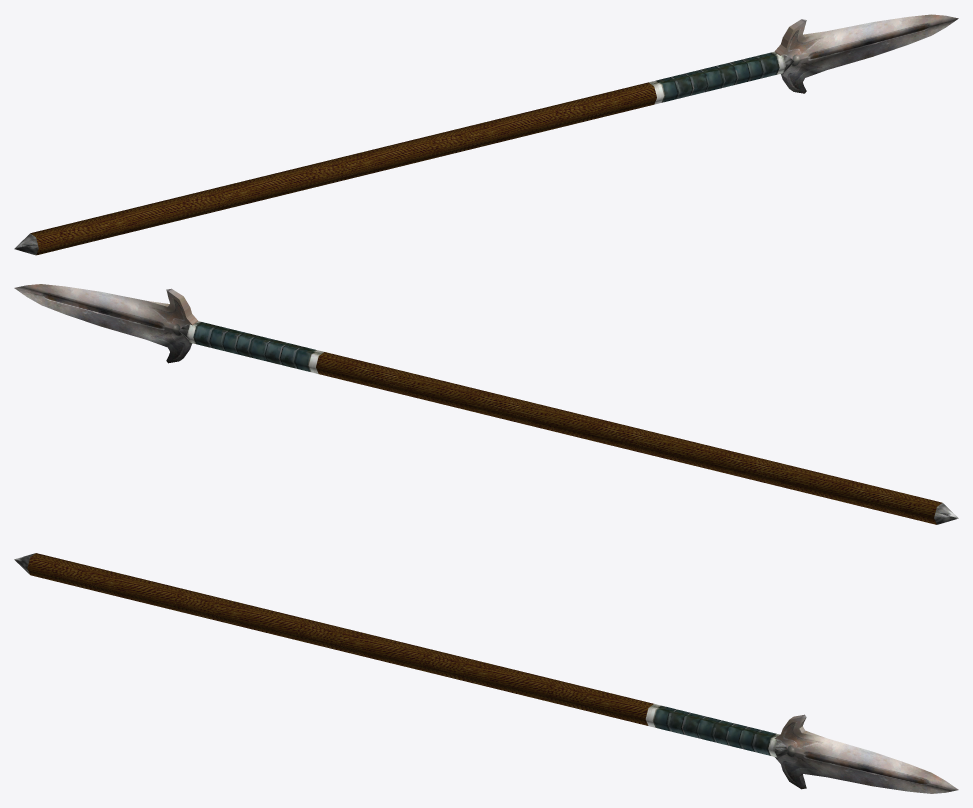
3 views of the same model, one above another, from view 1: azimuth 30°, elevation 25°; view 2: azimuth 150°, elevation 25°; view 3: azimuth 330°, elevation 25° (orthographic).
Visible parts, largest first — view 1: it10100; view 2: it10100; view 3: it10100.
Part boxes in pixels (bbox=[...]): it10100: bbox=[14, 14, 958, 255]; it10100: bbox=[14, 284, 958, 524]; it10100: bbox=[14, 553, 958, 793].
Size of the model in its own units: 7.59 by 0.553 by 0.1602.
Materials: 4 (4 with a texture image).
